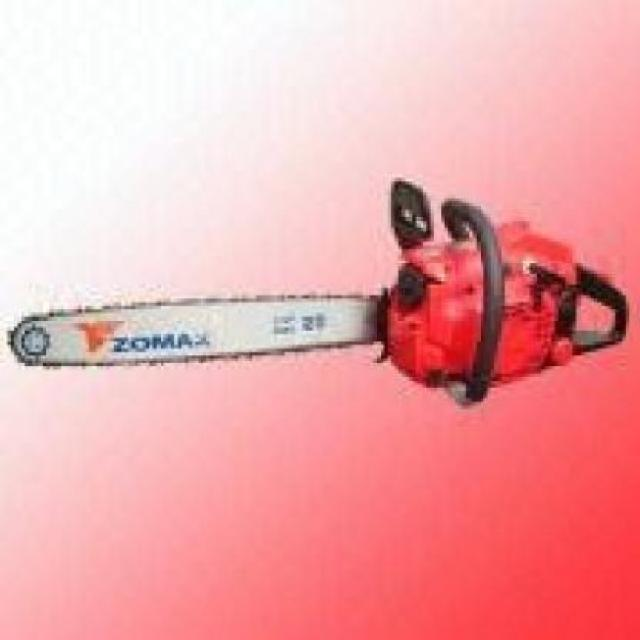Chainsaw: (0, 171, 634, 409)
